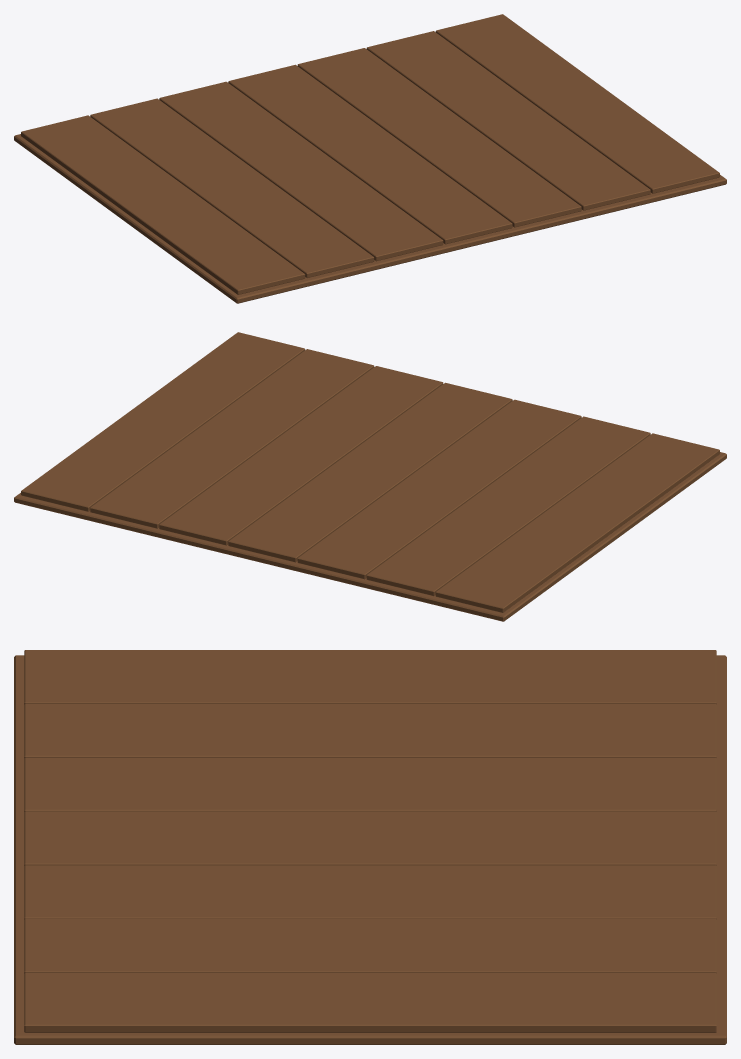
Rendered from Hut_Floor_0_-2.fbx.
The picture shows the model from 3 angles, top to bottom: view 1: azimuth 30°, elevation 25°; view 2: azimuth 150°, elevation 25°; view 3: azimuth 270°, elevation 25°; orthographic projection. The views are drawn at different scales.
Visible parts, largest first — view 1: Hut_Floor_0_-2; view 2: Hut_Floor_0_-2; view 3: Hut_Floor_0_-2.
Boxes of the visible parts, bbox=[...] form: Hut_Floor_0_-2: bbox=[14, 14, 726, 303]; Hut_Floor_0_-2: bbox=[14, 332, 726, 621]; Hut_Floor_0_-2: bbox=[14, 650, 726, 1044].
Bounding box in the file's own units: 710 × 15 × 560.
